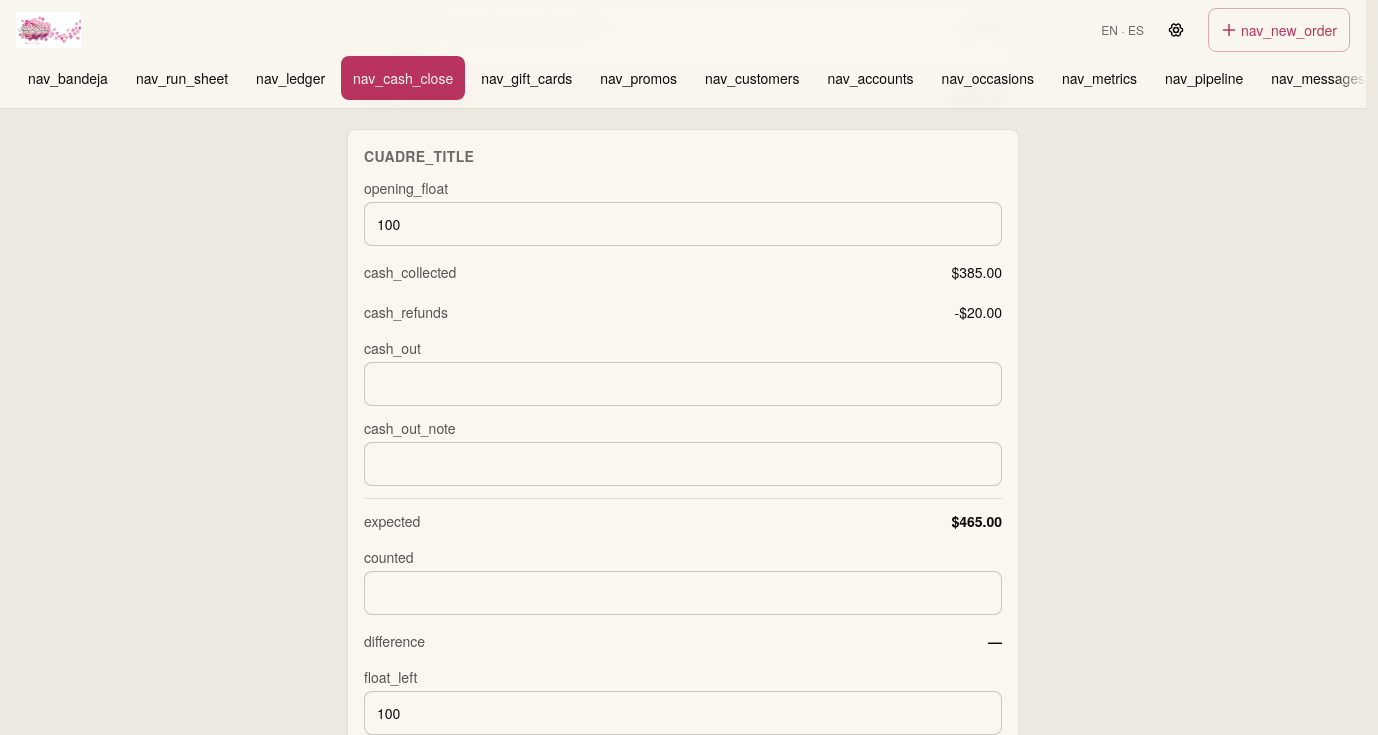
Test: CashCloseView › computes the expected cash and the difference live, and saves the typed fields
This screenshot has width=1378, height=735.
(page scrolled)
Type "12" into the field labelled "cash_out".
click(683, 384); type("12")  # box [364,362,1002,406]
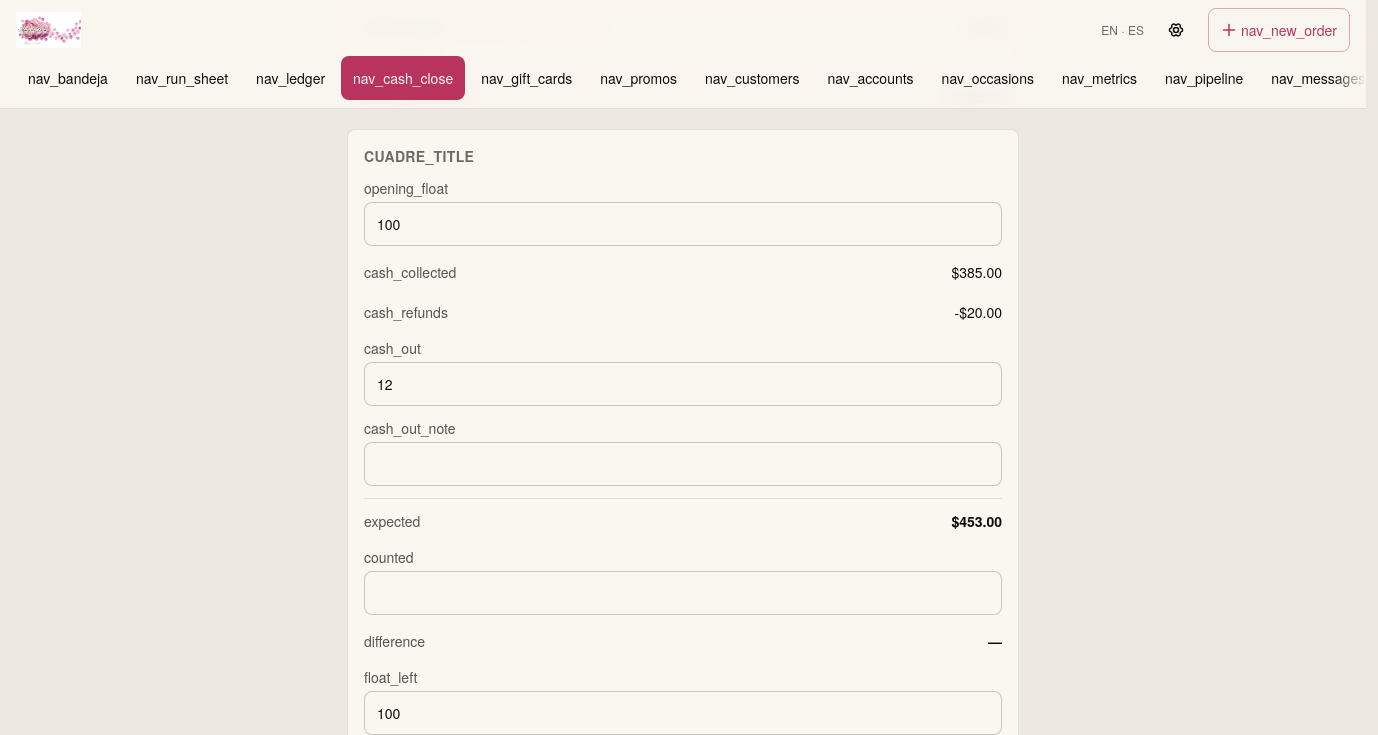
Type "448" into the field labelled "counted".
click(683, 593); type("448")  # box [364,571,1002,615]
(page scrolled)
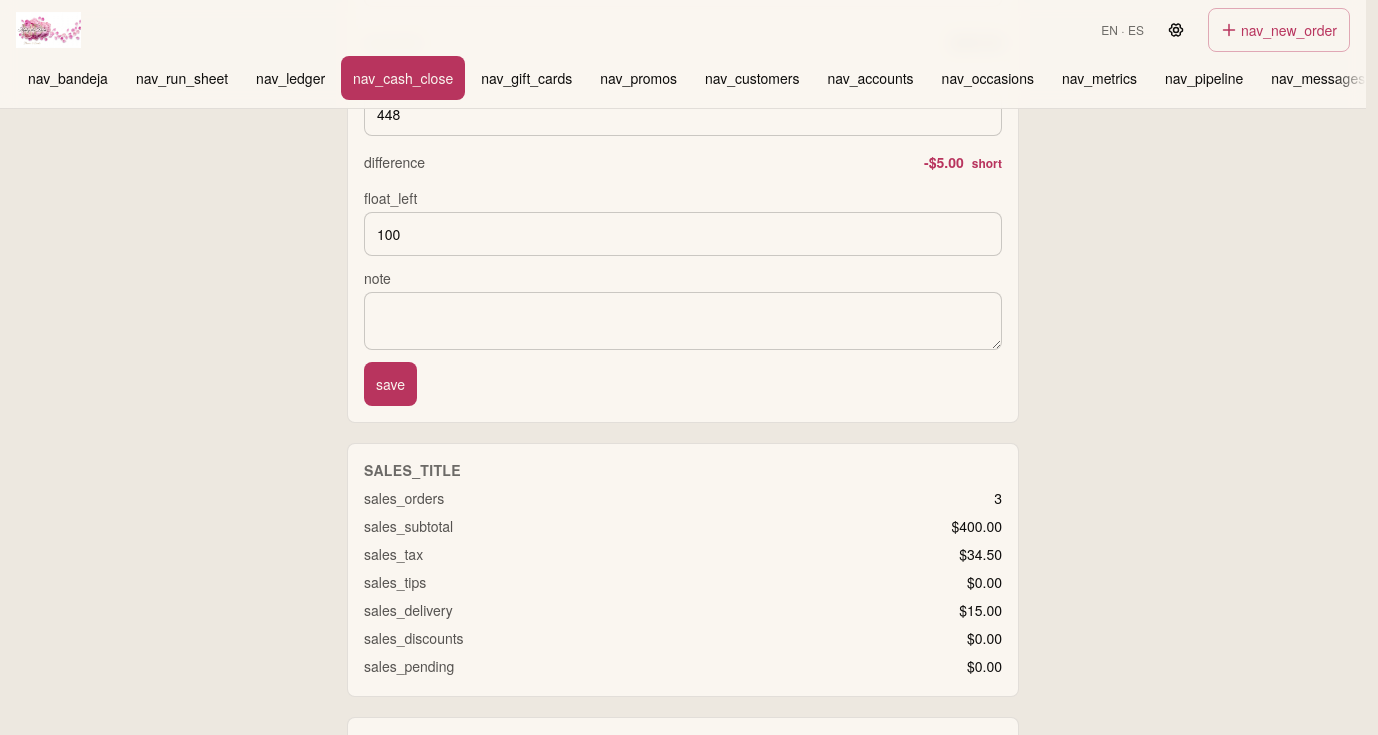
Result: the text "-$5.00" is shown at [924,152,964,172]
Result: the text "short" is shown at [972,154,1002,172]
Click the button "save".
click(390, 384)  # box [364,362,417,406]
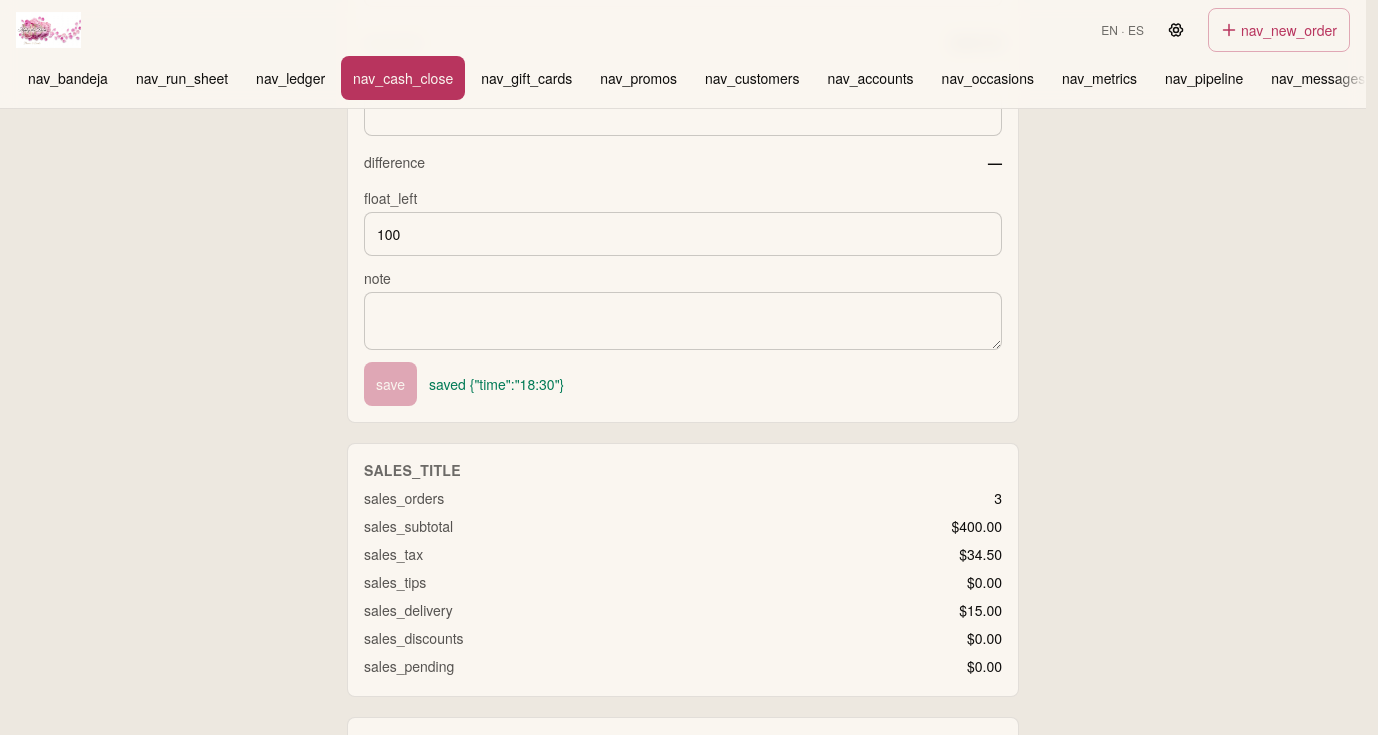
Result: the text "saved {\"time\":\"18:30\"}" is shown at [429,374,564,394]
